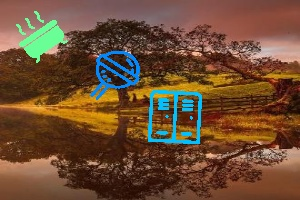对开门: (149, 89, 203, 146)
铃铛: (90, 51, 140, 96)
香炉: (14, 10, 70, 58)
